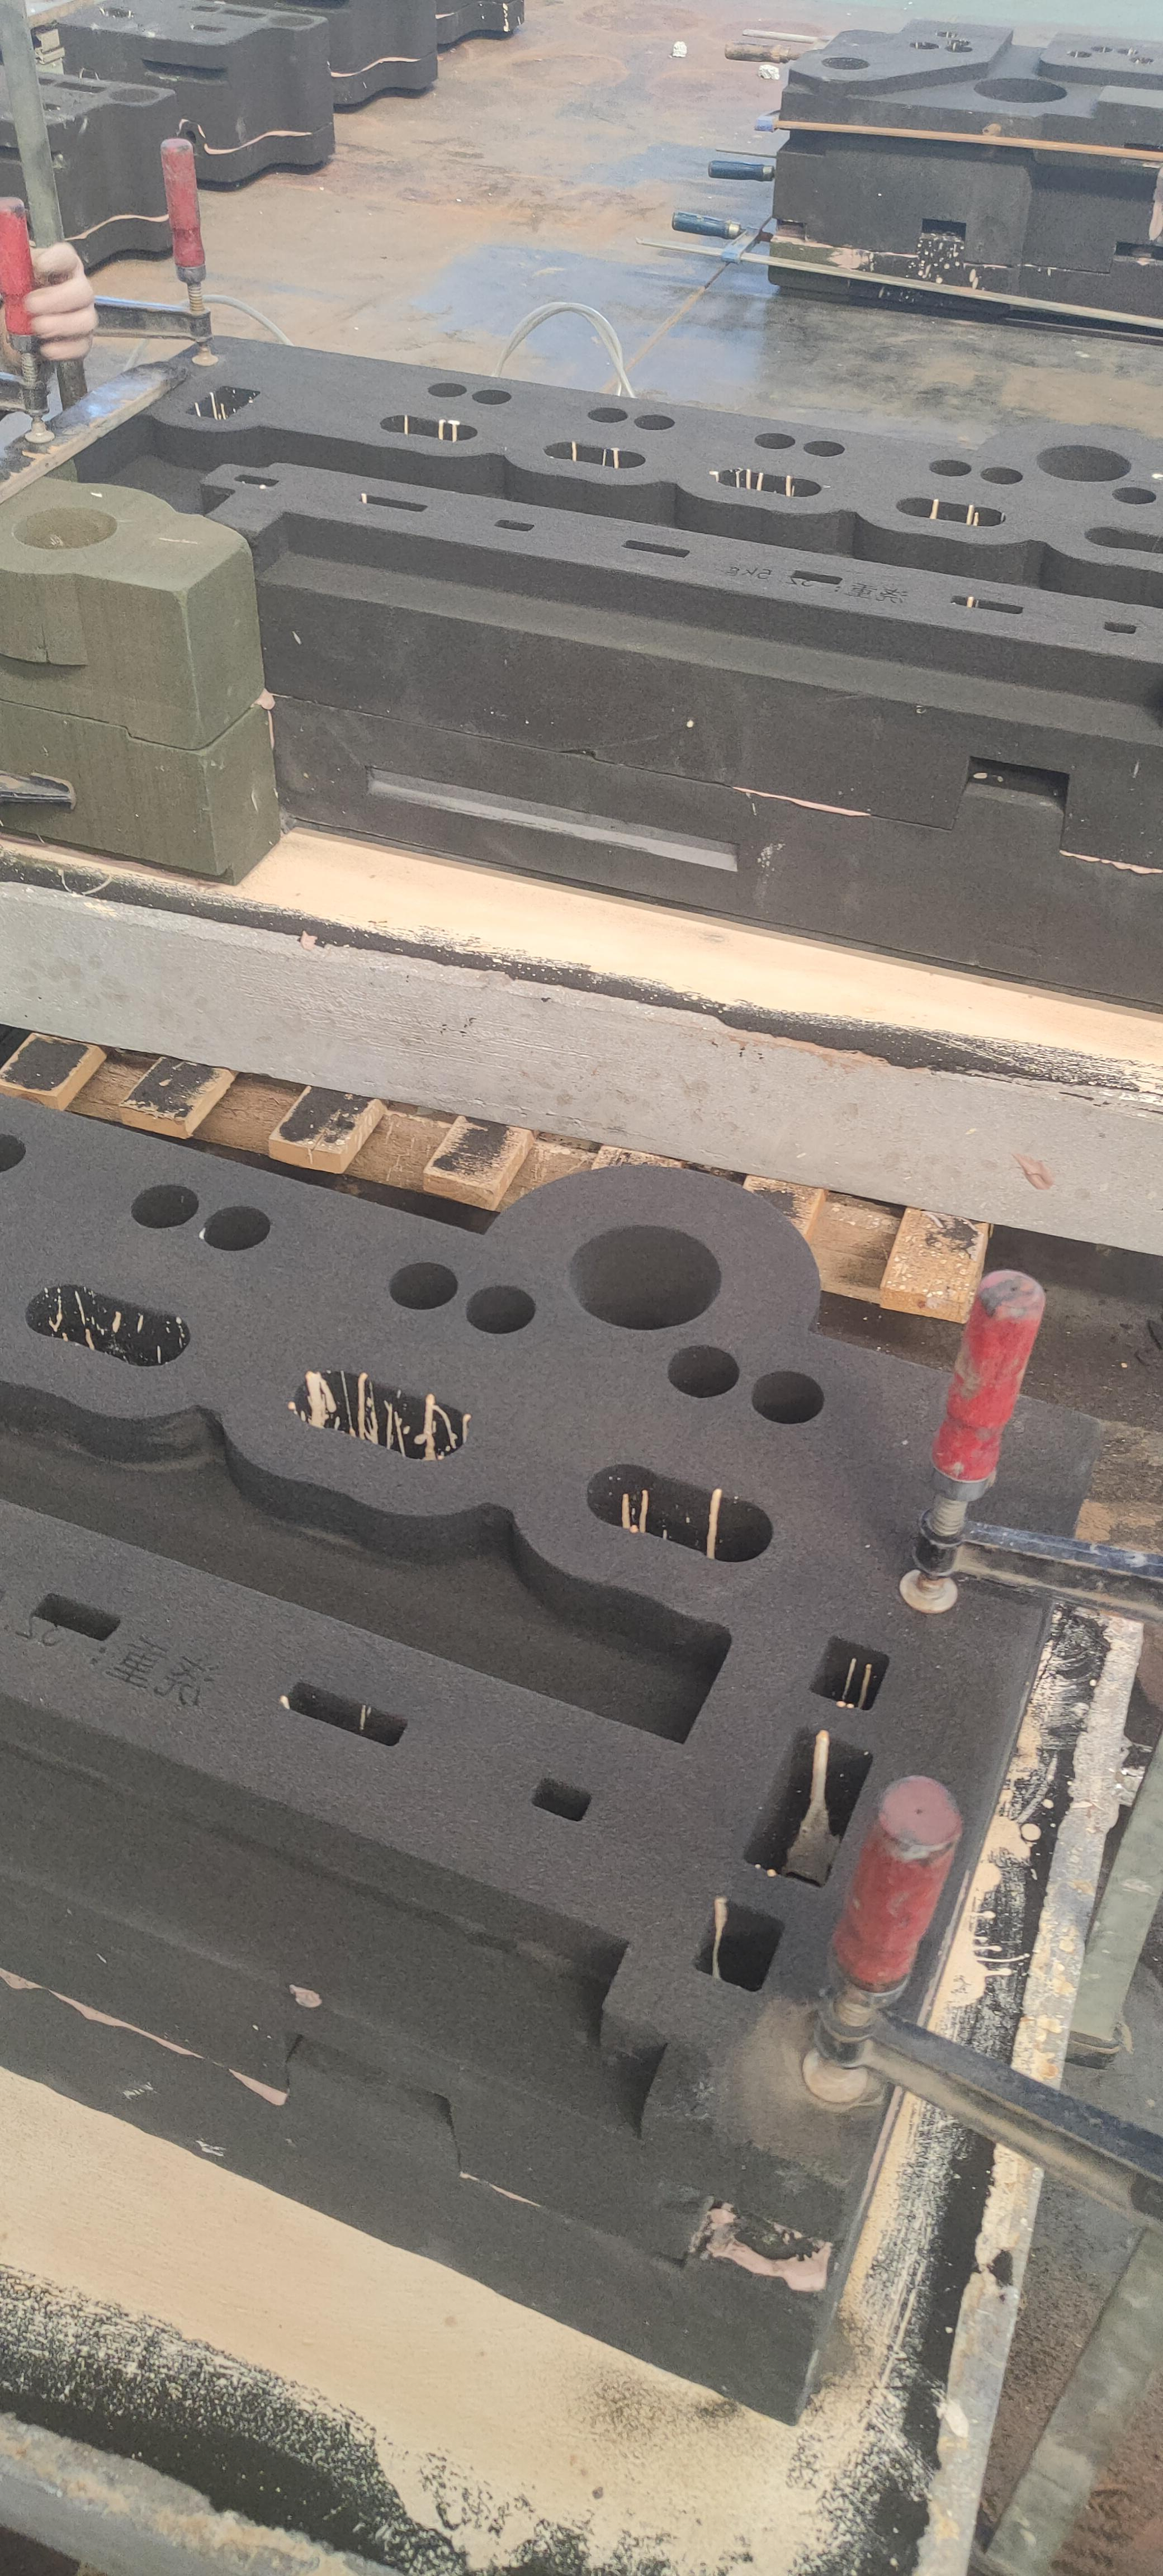pouring hole: (568, 1224, 721, 1329), (11, 508, 118, 552), (1035, 444, 1132, 481), (105, 85, 159, 105), (264, 12, 315, 28), (823, 56, 871, 72)
